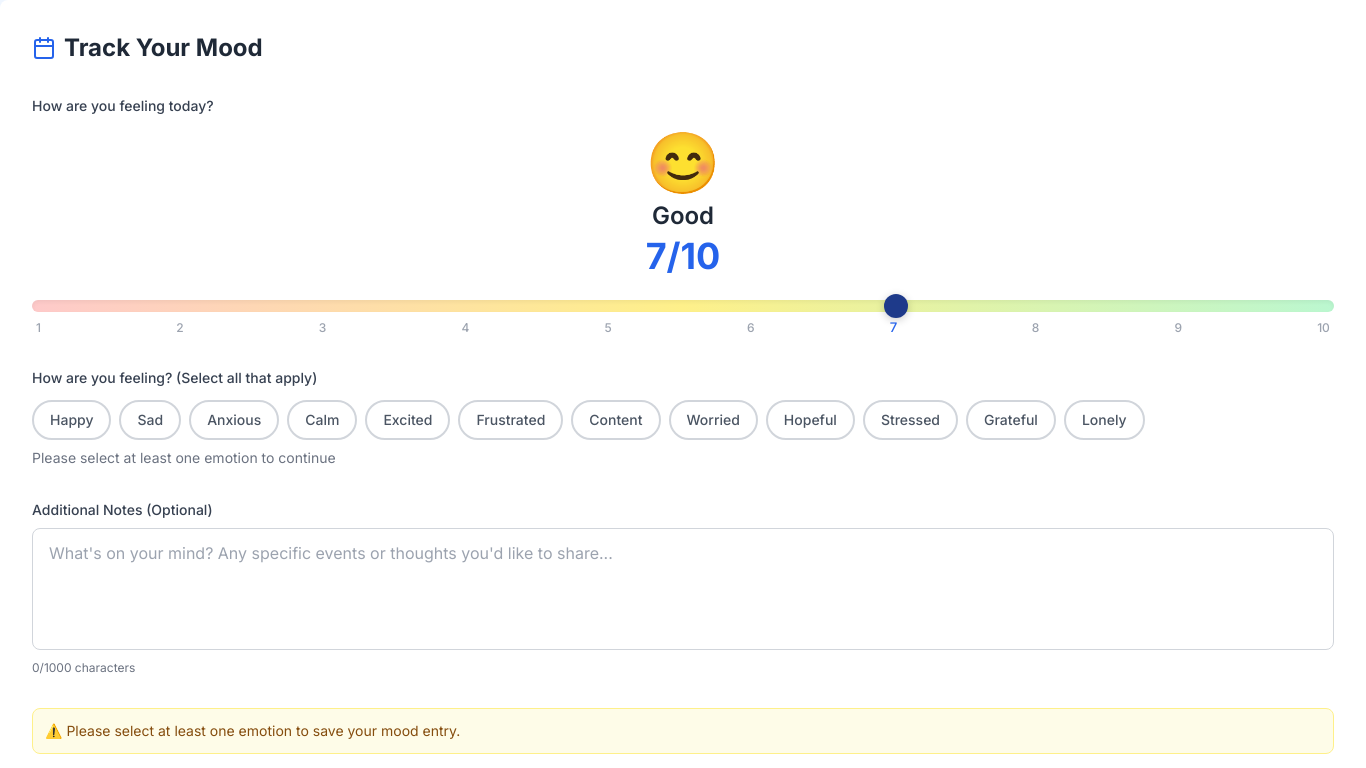
ClientView Component › enables submit button when emotions are selected
The image size is (1366, 768).
Click the checkbox "Happy": (72, 420) [32,400,112,440]
(page scrolled)
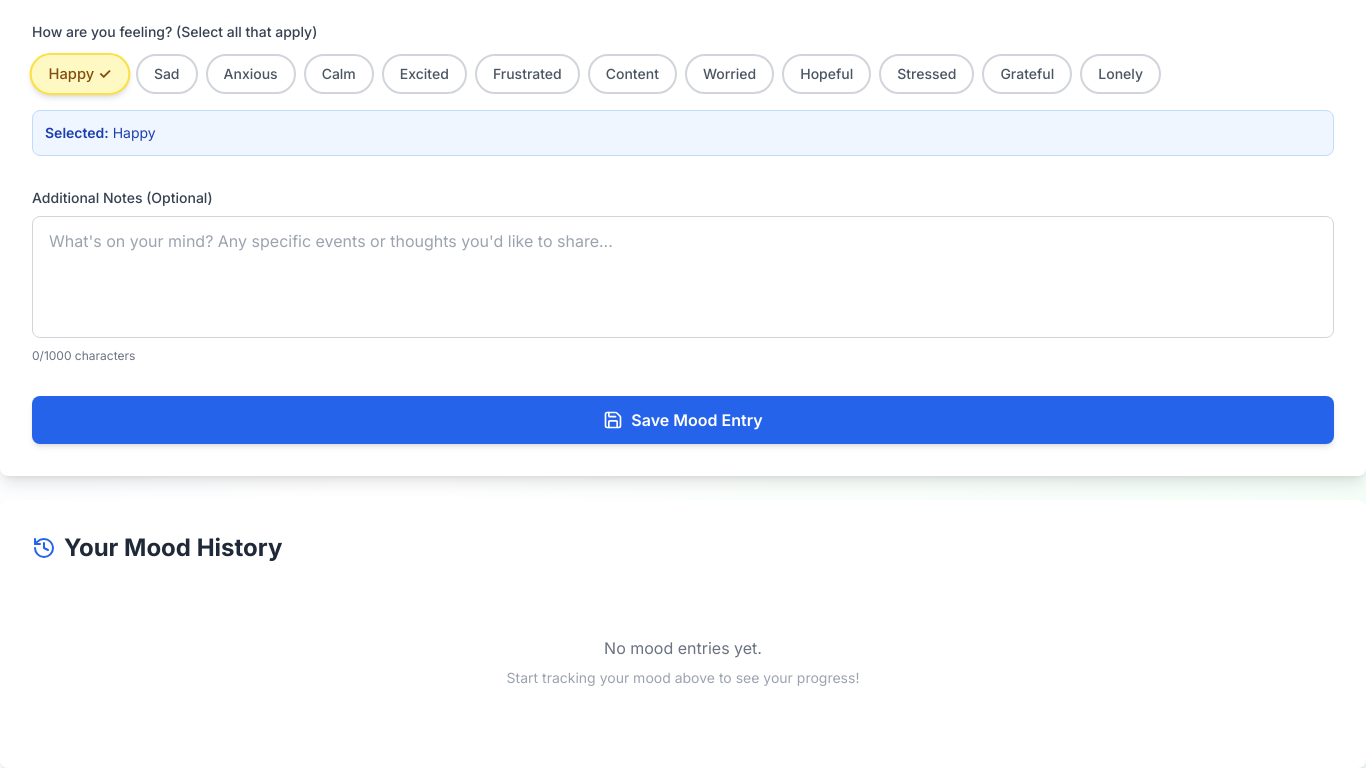
Result: the button "Save Mood Entry" is enabled at [32,396,1334,444]
